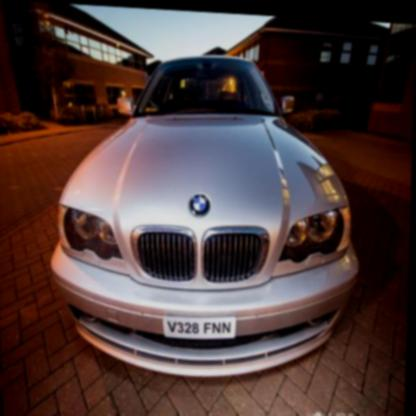License_Plate: (162, 312, 237, 343)
